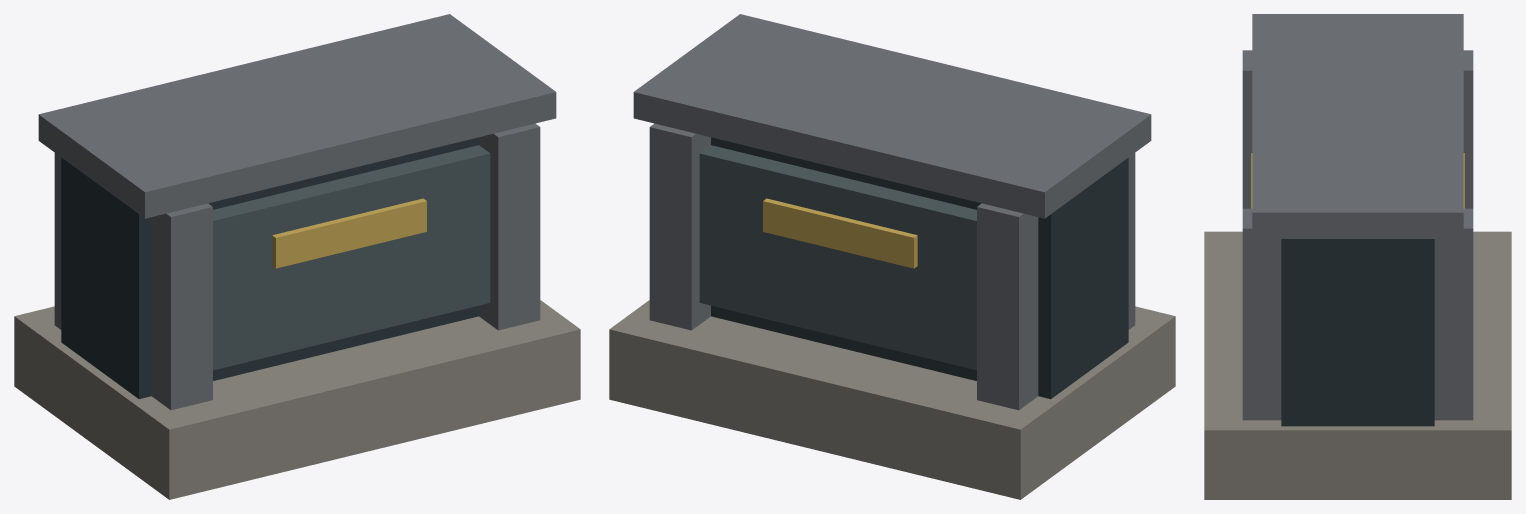
The model's file is battery-blast-barrier.glb.
3 renders of one model, left to right at view 1: azimuth 30°, elevation 25°; view 2: azimuth 150°, elevation 25°; view 3: azimuth 270°, elevation 25°, orthographic.
Visible parts, largest first — view 1: top_cap, foundation, armour_face, blast_core, brace, brace.001, identification_strip, brace.002; view 2: top_cap, foundation, armour_face.001, blast_core, brace.002, brace.003, identification_strip.001, brace; view 3: top_cap, foundation, blast_core, brace.001, brace.003, brace, brace.002.
Boxes of the visible parts, box(x1,y1,x2,y2) form: top_cap: box(38, 14, 556, 218); foundation: box(14, 300, 580, 499); armour_face: box(213, 145, 490, 370); blast_core: box(61, 137, 478, 399); brace: box(151, 203, 212, 410); brace.001: box(479, 123, 540, 330); identification_strip: box(272, 198, 426, 268); brace.002: box(54, 153, 61, 329); top_cap: box(633, 14, 1151, 218); foundation: box(609, 300, 1175, 499); armour_face.001: box(699, 145, 976, 370); blast_core: box(711, 137, 1128, 399); brace.002: box(977, 203, 1038, 410); brace.003: box(649, 123, 710, 330); identification_strip.001: box(763, 198, 917, 268); brace: box(1128, 153, 1135, 329); top_cap: box(1252, 14, 1463, 238); foundation: box(1204, 231, 1511, 499); blast_core: box(1281, 239, 1434, 426); brace.001: box(1242, 208, 1281, 420); brace.003: box(1434, 208, 1473, 420); brace: box(1242, 50, 1252, 208); brace.002: box(1463, 50, 1473, 208).
Bounding box in the file's own units: 0.98 × 0.66 × 0.64.
